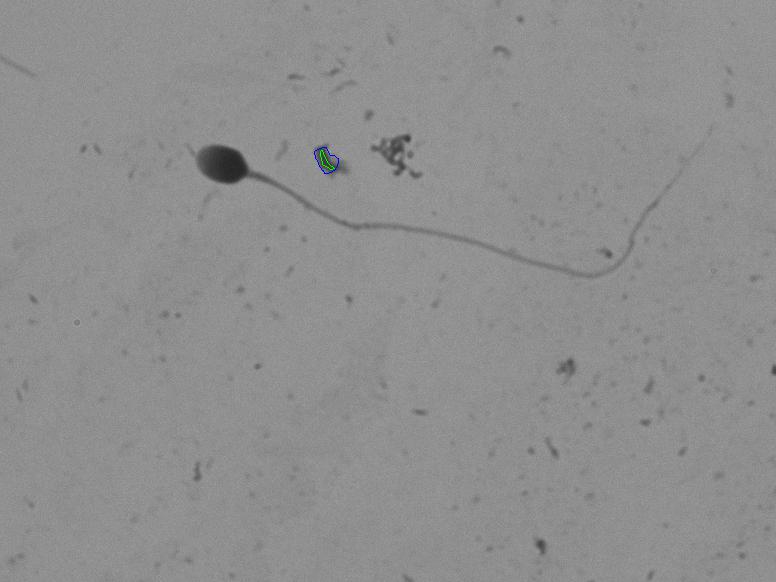Normal: (157, 74, 727, 323)
